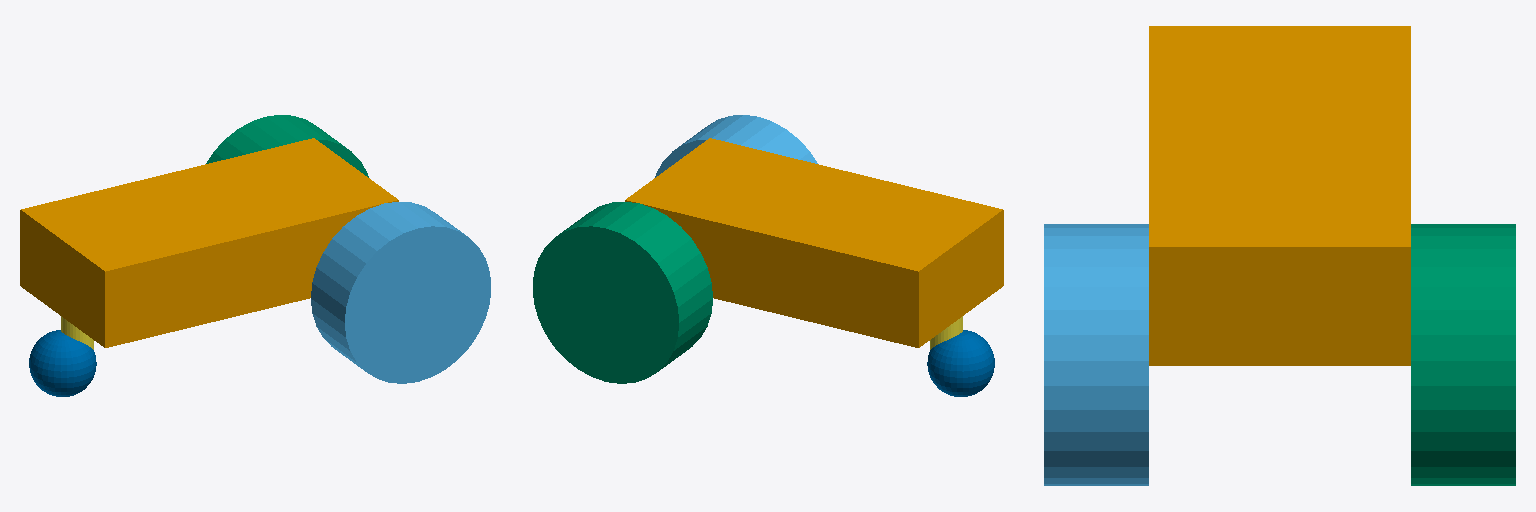
URDF robot description (drivebot):
<?xml version="1.0"?>
<robot name="drivebot">

  <gazebo reference="chassis">
    <material>Gazebo/Black</material>
  </gazebo>

  <gazebo reference="right_wheel">
    <mu1>1.0</mu1>
    <mu2>1.0</mu2>
    <kp>10000000.0</kp>
    <kd>1.0</kd>
    <material>Gazebo/Orange</material>
  </gazebo>

  <gazebo reference="left_wheel">
    <mu1>1.0</mu1>
    <mu2>1.0</mu2>
    <kp>10000000.0</kp>
    <kd>1.0</kd>
    <material>Gazebo/Orange</material>
  </gazebo>

  <gazebo reference="rear_wheel_support">
    <material>Gazebo/White</material>
  </gazebo>

  <gazebo reference="rear_wheel">
    <mu1>1.0</mu1>
    <mu2>1.0</mu2>
    <kp>10000000.0</kp>
    <kd>1.0</kd>
    <material>Gazebo/Orange</material>
  </gazebo>

  <link name="chassis">
    <visual>
      <geometry>
        <box size="1 0.5 0.25"/>
      </geometry>
      <origin rpy="0 0 0" xyz="0 0 0"/>
    </visual>
    <collision>
      <geometry>
        <box size="1 0.5 0.25"/>
      </geometry>
      <origin rpy="0 0 0" xyz="0 0 0"/>
    </collision>
    <inertial>
      <mass value="2"/>
      <inertia ixx="0.0104" ixy="0.0" ixz="0.0" iyy="0.04166" iyz="0.0" izz="0.05208"/>
      <origin rpy="0 0 0" xyz="0 0 0"/>
    </inertial>
  </link>  

<link name="right_wheel">
    <visual>
      <geometry>
        <cylinder length="0.2" radius="0.25"/>
      </geometry>
      <origin rpy="1.57075 0 0" xyz="0 -0.1 0"/>
    </visual>
    <collision>
      <geometry>
        <cylinder length="0.2" radius="0.25"/>
      </geometry>
      <origin rpy="1.57075 0 0" xyz="0 -0.1 0"/>
    </collision>
    <inertial>
      <mass value="0.25"/>
      <inertia ixx="0.047375" ixy="0.0" ixz="0.0" iyy="0.011844" iyz="0.0" izz="0.0078125"/>
      <origin rpy="1.57075 0 0" xyz="0 -0.1 0"/>
    </inertial>
  </link>

  <link name="left_wheel">
    <visual>
      <geometry>
        <cylinder length="0.2" radius="0.25"/>
      </geometry>
      <origin rpy="1.57075 0 0" xyz="0 0.1 0"/>
    </visual>
    <collision>
      <geometry>
        <cylinder length="0.2" radius="0.25"/>
      </geometry>
      <origin rpy="1.57075 0 0" xyz="0 0.1 0"/>
    </collision>
    <inertial>
      <mass value="0.25"/>
      <inertia ixx="0.047375" ixy="0.0" ixz="0.0" iyy="0.011844" iyz="0.0" izz="0.0078125"/>
      <origin rpy="1.57075 0 0" xyz="0 0.1 0"/>
    </inertial>
  </link>

  <link name="rear_wheel_support">
    <visual>
      <geometry>
        <cylinder length="0.15" radius="0.05"/>
      </geometry>
      <origin rpy="0 0 0" xyz="0 0 -0.075"/>      
    </visual>
    <collision>
      <geometry>
        <cylinder length="0.15" radius="0.05"/>
      </geometry>
      <origin rpy="0 0 0" xyz="0 0 -0.075"/>      
    </collision>
    <inertial>
      <mass value="0.01"/>
      <inertia ixx="0.00003958" ixy="0.0" ixz="0.0" iyy="0.00003958" iyz="0.0" izz="0.0000125"/>
      <origin rpy="0 0 0" xyz="0 0 -0.075"/>       
    </inertial>
  </link>

  <link name="rear_wheel">
    <visual>
      <geometry>
        <sphere radius="0.10"/>
      </geometry>
      <origin rpy="0 0 0" xyz="0 0 0"/>
    </visual>
    <collision>
      <geometry>
        <sphere radius="0.10"/>
      </geometry>
      <origin rpy="0 0 0" xyz="0 0 0"/>      
    </collision>
    <inertial>
      <mass value="0.30"/>
      <inertia ixx="0.005" ixy="0.0" ixz="0.0" iyy="0.005" iyz="0.0" izz="0.005"/>
      <origin rpy="0 0 0" xyz="0 0 0"/>
    </inertial> 
  </link>

  <joint name="chassis_to_right_wheel" type="revolute">
    <parent link="chassis"/>
    <child link="right_wheel"/>
    <origin rpy="0 0 0" xyz="0.45 -0.25 -0.125"/>
    <axis xyz="0 1 0"/>
    <limit lower="-10e100" upper="10e100" effort="100" velocity="100"/>
  </joint>

  <joint name="chassis_to_left_wheel" type="revolute">
    <parent link="chassis"/>
    <child link="left_wheel"/>
    <origin rpy="0 0 0" xyz="0.45 0.25 -0.125"/>
    <axis xyz="0 1 0"/>
    <limit lower="-10e100" upper="10e100" effort="100" velocity="100"/>
  </joint>

  <joint name="chassis_to_rear_wheel_support" type="continuous">
    <parent link="chassis"/>
    <child link="rear_wheel_support"/>
    <origin rpy="0 0 0" xyz="-0.45 0 -0.125"/>
    <axis xyz="0 0 1"/>
    <limit effort="100" velocity="100"/>
    <dynamics damping="0.001"/>
  </joint>

  <joint name="rear_wheel_support_to_rear_wheel" type="continuous">
    <parent link="rear_wheel_support"/>
    <child link="rear_wheel"/>
    <origin rpy="0 0 0" xyz="-0.05 0 -0.15"/>
    <axis xyz="0 1 0"/>
    <limit effort="100" velocity="100"/>
    <dynamics damping="0.001"/>
  </joint>

  <gazebo>
    <plugin name="front_wheel_differential_drive_controller" filename="libgazebo_ros_diff_drive.so">
      <legacyMode>true</legacyMode>
      <alwaysOn>true</alwaysOn>
      <updateRate>100</updateRate>
      <leftJoint>chassis_to_left_wheel</leftJoint>
      <rightJoint>chassis_to_right_wheel</rightJoint>
      <wheelSeparation>0.5</wheelSeparation>
      <wheelDiameter>0.25</wheelDiameter>
      <torque>20</torque>
      <commandTopic>cmd_vel</commandTopic>
      <odometryTopic>odom</odometryTopic>
      <odometryFrame>odom</odometryFrame>
      <robotBaseFrame>chassis</robotBaseFrame>
    </plugin>
  </gazebo>

</robot>

--- Render facts (derived) ---
Views: 3 orthographic renders of the robot side by side, from view 1: azimuth 30°, elevation 25°; view 2: azimuth 150°, elevation 25°; view 3: azimuth 270°, elevation 25°.
Robot: drivebot — 5 links, 4 joints (2 revolute, 2 continuous); root link chassis; default pose: every joint at zero.
Links seen in each view (by area): view 1: chassis, right_wheel, rear_wheel, left_wheel; view 2: chassis, left_wheel, rear_wheel, right_wheel; view 3: chassis, right_wheel, left_wheel.
Link boxes in pixels (x1,y1,x2,y2): chassis: [20, 138, 398, 347]; right_wheel: [311, 202, 490, 383]; rear_wheel: [29, 330, 96, 396]; left_wheel: [206, 115, 368, 177]; chassis: [625, 138, 1003, 347]; left_wheel: [533, 202, 712, 383]; rear_wheel: [927, 330, 994, 396]; right_wheel: [655, 115, 817, 177]; chassis: [1149, 26, 1410, 365]; right_wheel: [1044, 224, 1148, 485]; left_wheel: [1411, 224, 1515, 485].
Size in the robot's own frame: 1.3 by 0.9 by 0.5 metres.
Geometry: primitives only (box / cylinder / sphere), no mesh files.